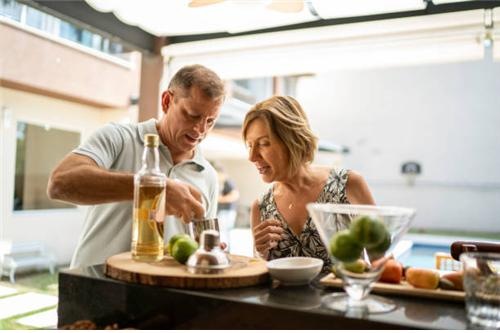alcohol: (307, 201, 416, 320), (131, 134, 164, 261), (461, 252, 500, 333)
